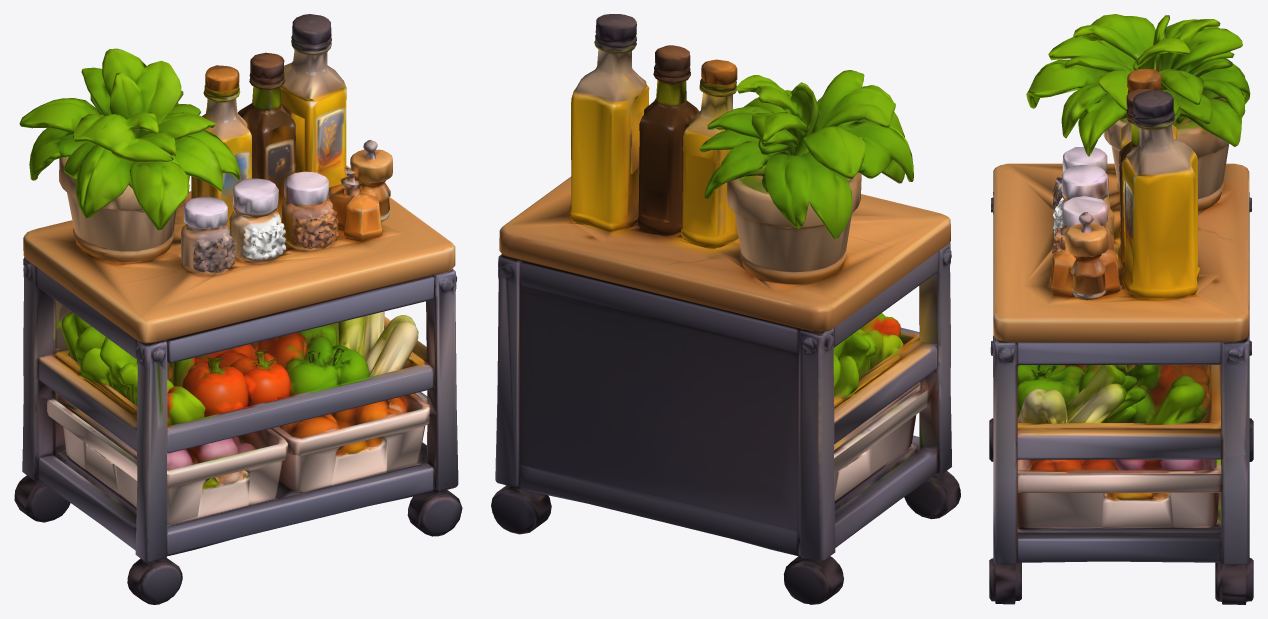
The model's file is storage-cabinet.glb.
3 renders of one model, left to right at view 1: azimuth 30°, elevation 25°; view 2: azimuth 150°, elevation 25°; view 3: azimuth 270°, elevation 25°, orthographic. The views are drawn at different scales.
Parts seen in each view (by area): view 1: 置物柜_用户原件静态总成; view 2: 置物柜_用户原件静态总成; view 3: 置物柜_用户原件静态总成.
Part boxes in pixels (box(x1,y1,x2,y2)): 置物柜_用户原件静态总成: box(14, 14, 462, 604); 置物柜_用户原件静态总成: box(491, 14, 960, 604); 置物柜_用户原件静态总成: box(989, 14, 1253, 604).
Size of the model in its own units: 1.05 by 1.41 by 0.706.
1 material, 1 textured.
